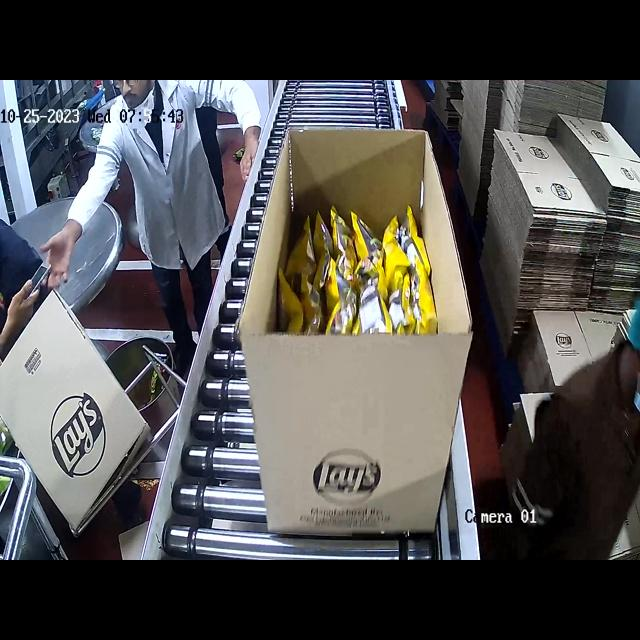salted: (296, 201, 439, 343)
